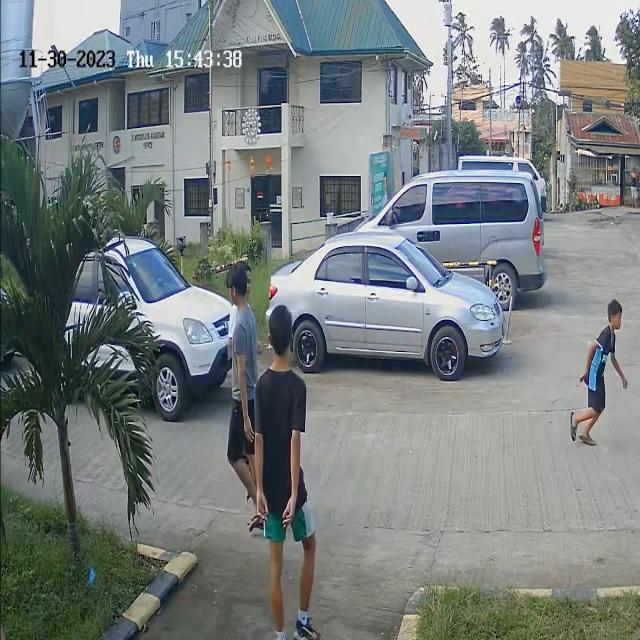person: (257, 302, 308, 482), (214, 260, 265, 392), (581, 297, 634, 397)
